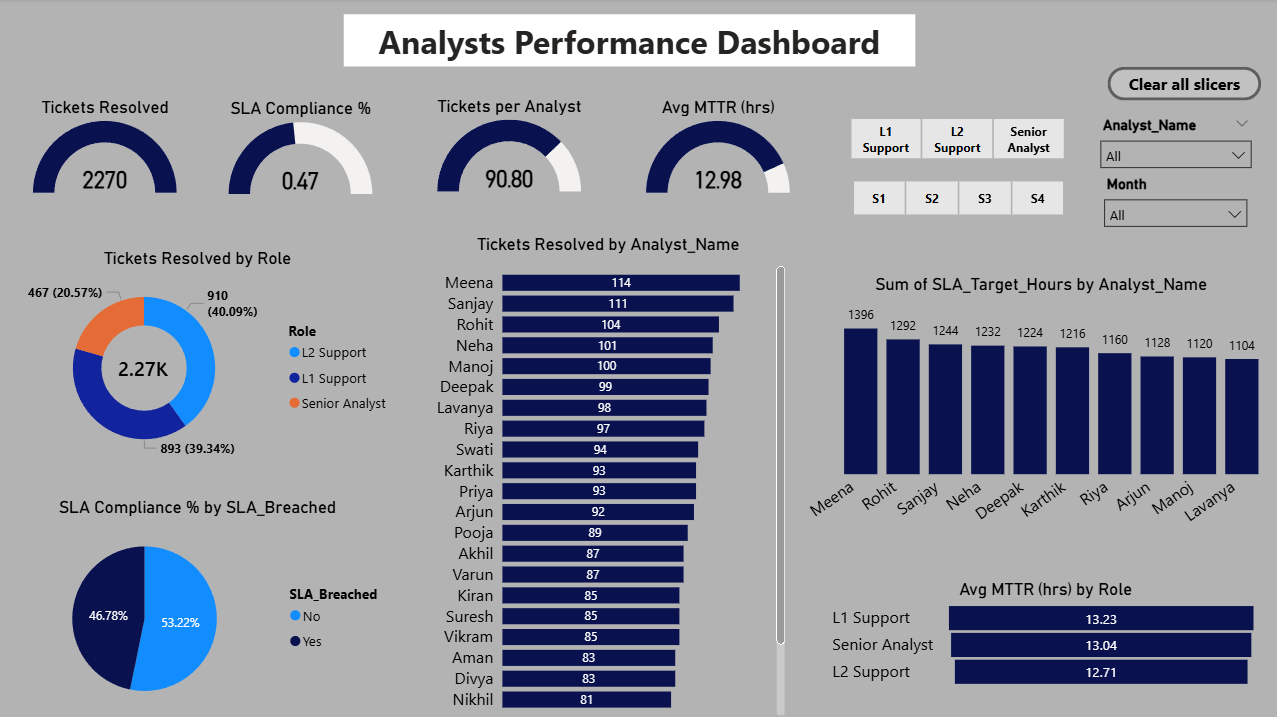

Layout of this report page (visuals, bound fields, positions):
{"tool":"powerbi","page":{"name":"Analysts Performance Dashboard","canvas":[1280,720],"ordinal":0},"visuals":[{"type":"gauge","fields":{"Y":["analyst_performance.SLA Compliance %"]},"box":[195.3,99.5,217.7,100.8],"z":0},{"type":"gauge","fields":{"Y":["analyst_performance.Tickets per Analyst"]},"box":[403,97,217.7,100.8],"z":1000},{"type":"gauge","fields":{"Y":["analyst_performance.Tickets Resolved"]},"box":[0,98.3,218.9,100.8],"z":2000},{"type":"donutChart","fields":{"Category":["analyst_performance.Role"],"Y":["analyst_performance.Tickets Resolved"]},"box":[781.2,99.5,312.2,197.8],"z":3000},{"type":"slicer","fields":{"Values":["analyst_performance.Analyst_Name"]},"box":[1089.7,113.2,170.4,69.7],"z":4000},{"type":"slicer","fields":{"Values":["analyst_performance.Severity"]},"box":[1054.9,68.4,225.2,49.8],"z":5000},{"type":"slicer","fields":{"Values":["analyst_performance.Role"]},"box":[1032.5,16.2,247.5,46],"z":6000},{"type":"slicer","fields":{"Values":["DateTable.Month"]},"box":[1093.4,171.7,163,63.4],"z":7000},{"type":"clusteredBarChart","fields":{"Category":["analyst_performance.Analyst_Name"],"Y":["analyst_performance.Tickets Resolved"]},"box":[452.8,235.1,362,485.1],"z":8000},{"type":"barChart","fields":{"Category":["analyst_performance.Analyst_Name"],"Y":["analyst_performance.SLA Compliance %"],"Series":["analyst_performance.SLA_Breached"]},"box":[13.7,235.1,411.8,485.1],"z":9000},{"type":"actionButton","title":"Clear All ","box":[1127,248.8,153,33.6],"z":10000},{"type":"funnel","fields":{"Category":["analyst_performance.Role"],"Y":["analyst_performance.Avg MTTR (hrs)"]},"box":[826,541.1,434.1,179.1],"z":11000},{"type":"cardVisual","fields":{"Data":["analyst_performance.Tickets Resolved"]},"box":[884.5,171.7,108.2,63.4],"z":12000},{"type":"gauge","fields":{"Y":["analyst_performance.Avg MTTR (hrs)"]},"box":[610.8,98.3,217.7,100.8],"z":13000},{"type":"textbox","box":[347.1,16.2,568.5,52.2],"z":14000},{"type":"columnChart","fields":{"Category":["analyst_performance.Analyst_Name"],"Y":["Sum(analyst_performance.SLA_Target_Hours)"]},"box":[814.8,297.3,465.2,243.8],"z":15000}]}

Visuals, with their boxes in screenshot pixels (x1, y1, x2, y2), scaled from the page's 1280x720 canvas onto the 1277x717 screenshot:
gauge - analyst_performance.SLA Compliance %: detection(195, 99, 412, 199)
gauge - analyst_performance.Tickets per Analyst: detection(402, 97, 619, 197)
gauge - analyst_performance.Tickets Resolved: detection(0, 98, 218, 198)
donutChart - analyst_performance.Role x analyst_performance.Tickets Resolved: detection(779, 99, 1091, 296)
slicer - analyst_performance.Analyst_Name: detection(1087, 113, 1257, 182)
slicer - analyst_performance.Severity: detection(1052, 68, 1276, 118)
slicer - analyst_performance.Role: detection(1030, 16, 1276, 62)
slicer - DateTable.Month: detection(1091, 171, 1253, 234)
clusteredBarChart - analyst_performance.Analyst_Name x analyst_performance.Tickets Resolved: detection(452, 234, 813, 716)
barChart - analyst_performance.Analyst_Name x analyst_performance.SLA Compliance %: detection(14, 234, 425, 716)
"Clear All " actionButton: detection(1124, 248, 1276, 281)
funnel - analyst_performance.Role x analyst_performance.Avg MTTR (hrs): detection(824, 539, 1257, 716)
cardVisual - analyst_performance.Tickets Resolved: detection(882, 171, 990, 234)
gauge - analyst_performance.Avg MTTR (hrs): detection(609, 98, 827, 198)
textbox: detection(346, 16, 913, 68)
columnChart - analyst_performance.Analyst_Name x Sum(analyst_performance.SLA_Target_Hours): detection(813, 296, 1276, 539)
